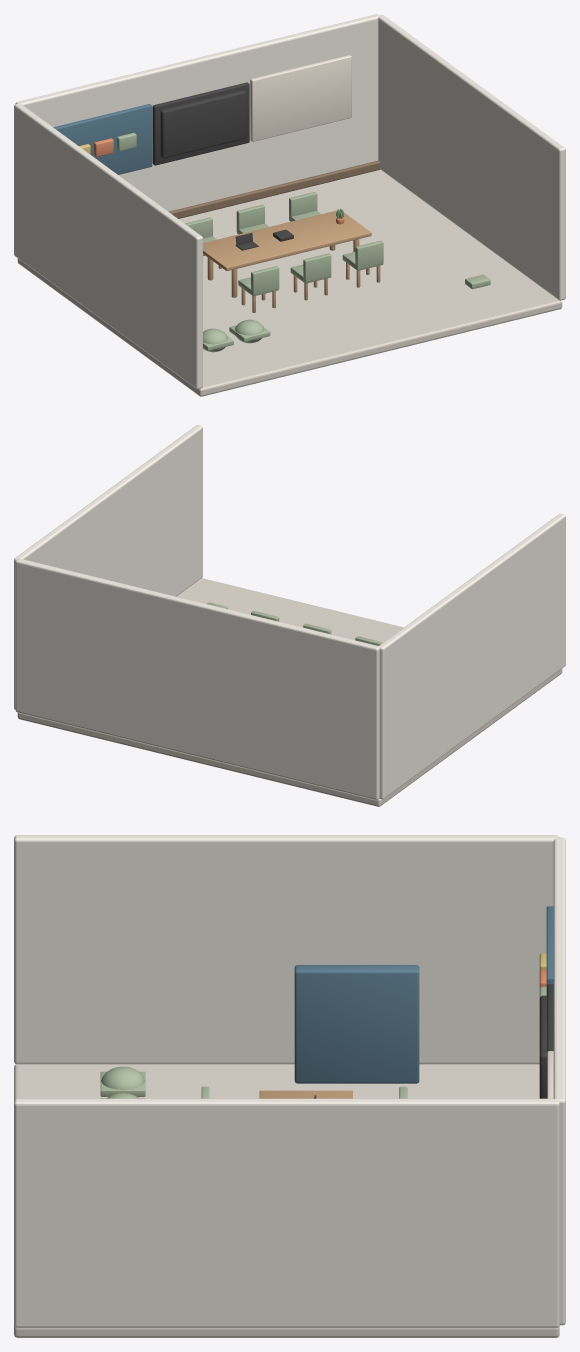
File: room-project.glb
3 views of the same model, one above another, from view 1: azimuth 30°, elevation 25°; view 2: azimuth 150°, elevation 25°; view 3: azimuth 270°, elevation 25° (orthographic). The views are drawn at different scales.
Parts seen in each view (by area): view 1: room-project_floor, room-project_left, room-project_right, room-project_back, panel.004, top.005, screen.012, panel.002, room-project_trim, panel.007, back.009, back.008 (+3 smaller); view 2: room-project_back, room-project_left, room-project_right, room-project_floor; view 3: room-project_right, room-project_left, room-project_floor, panel.008, room-project_back, screen.012, top.005, cushion.002, panel.002.
Boxes of the visible parts, x1,y1,x2,y2 form: room-project_floor: [17, 169, 562, 396]; room-project_left: [14, 103, 202, 389]; room-project_right: [378, 15, 565, 300]; room-project_back: [15, 14, 378, 211]; panel.004: [250, 55, 351, 141]; top.005: [203, 209, 371, 270]; screen.012: [160, 90, 246, 158]; panel.002: [53, 103, 152, 174]; room-project_trim: [168, 160, 380, 218]; panel.007: [152, 82, 249, 165]; back.009: [303, 253, 331, 282]; back.008: [251, 266, 279, 295]; room-project_back: [15, 558, 379, 799]; room-project_left: [379, 513, 565, 799]; room-project_right: [14, 425, 202, 709]; room-project_floor: [17, 578, 562, 806]; room-project_right: [14, 1098, 559, 1327]; room-project_left: [14, 835, 559, 1064]; room-project_floor: [14, 1064, 559, 1337]; panel.008: [294, 965, 419, 1083]; room-project_back: [553, 837, 565, 1325]; screen.012: [539, 995, 547, 1098]; top.005: [259, 1090, 352, 1098]; cushion.002: [101, 1066, 144, 1097]; panel.002: [546, 906, 553, 995].
Bounding box in the file's own units: 8.16 × 3.38 × 7.08.
